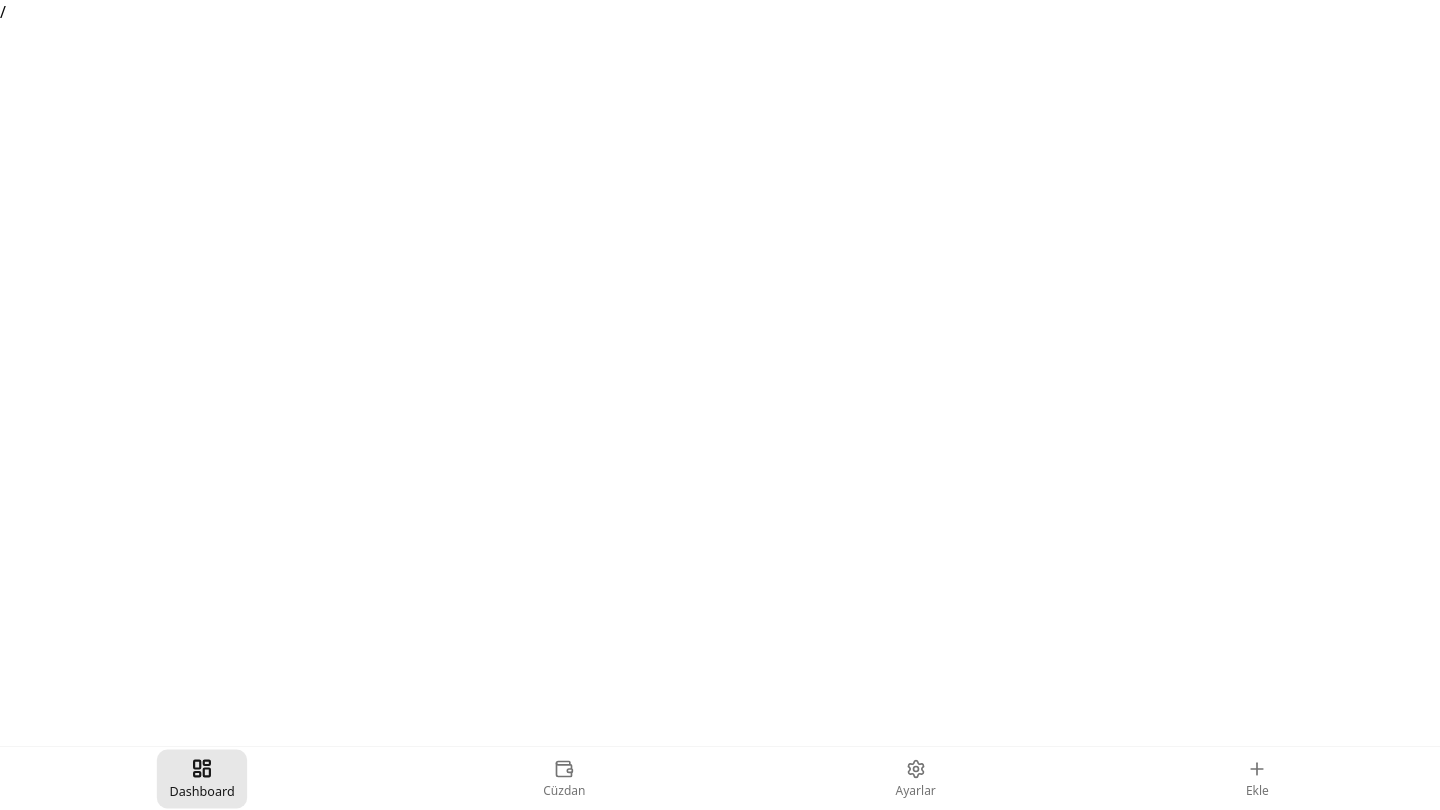
BottomNav › Center Action Button (AC3) › should toggle CreateOptionsPanel when clicking Add button
What coordinates should you click on to do the following:
click the button labelled "Ekle"
I would click on:
 (1257, 779)
Its box is [1234,751,1281,807].
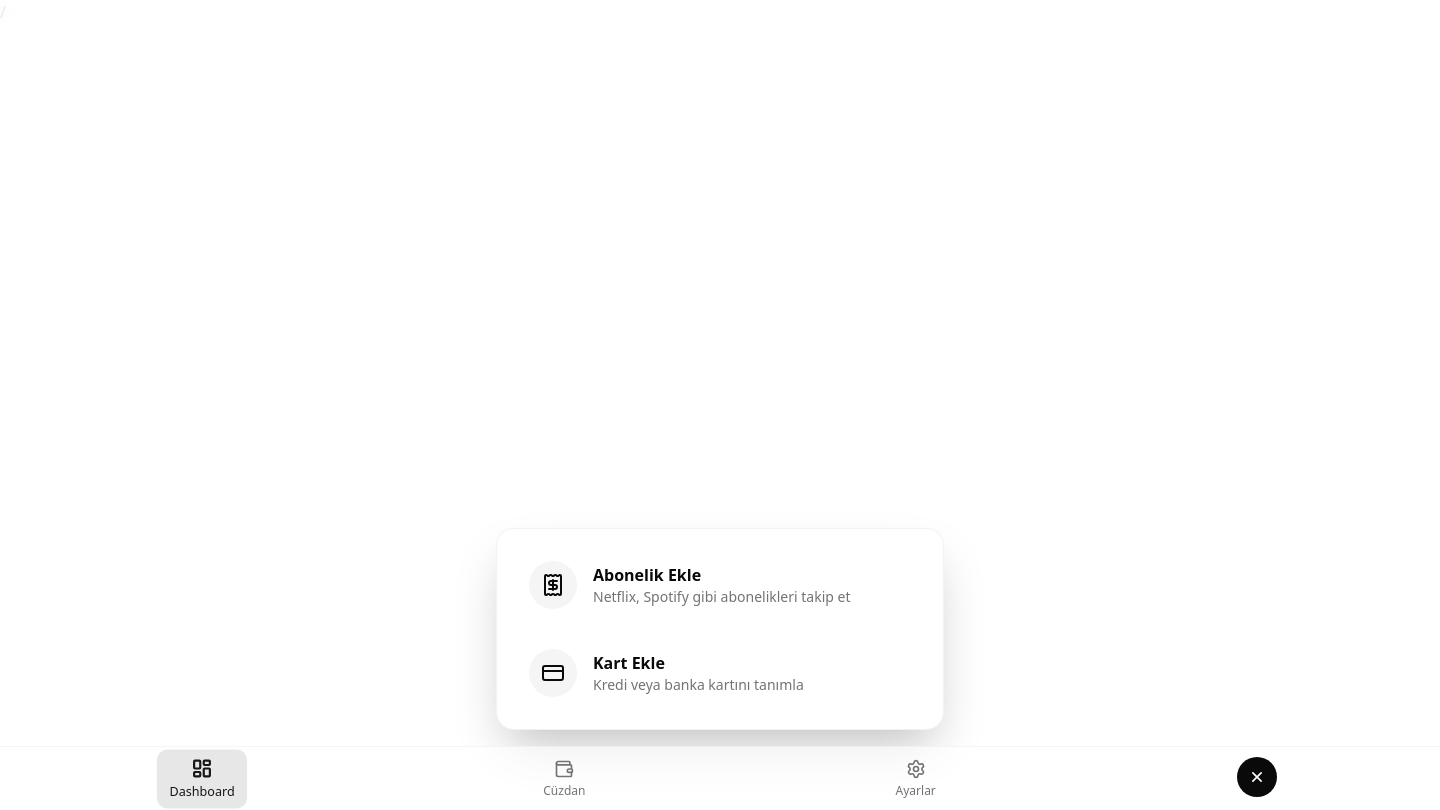
Expected: the button named "Kapat" is expanded, [1234,757,1281,801]
